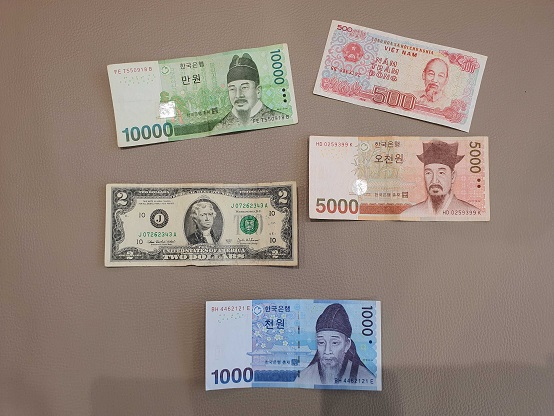10000won: (106, 41, 299, 148)
1000won: (204, 299, 383, 392)
2dollar: (105, 181, 297, 268)
5000won: (308, 138, 490, 221)
500vnd: (313, 20, 487, 131)
